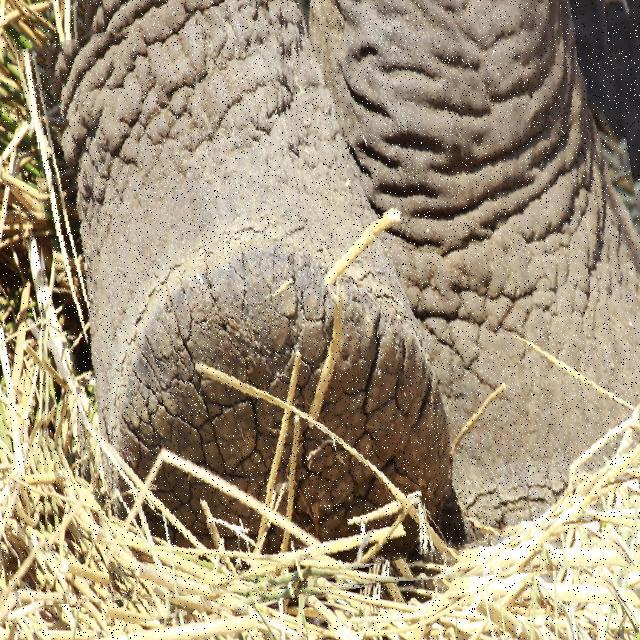elephant: (37, 0, 640, 605)
